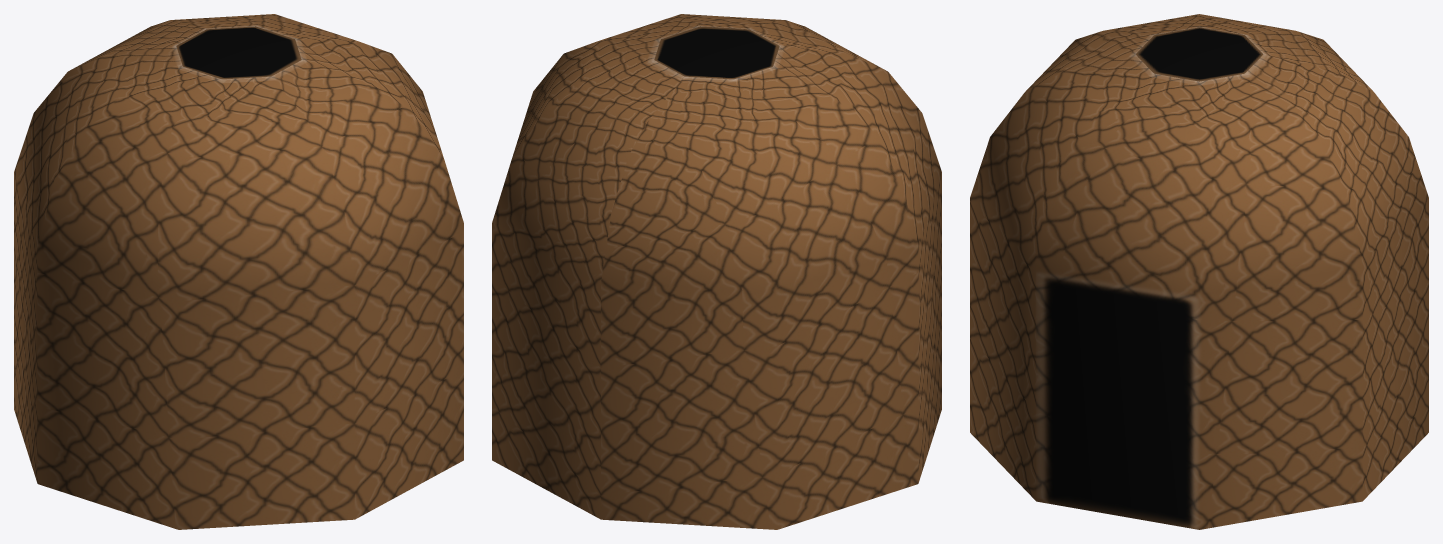
File: mudHut.fbx
3 views of the same model, side by side, from view 1: azimuth 30°, elevation 25°; view 2: azimuth 150°, elevation 25°; view 3: azimuth 270°, elevation 25° (orthographic).
Parts seen in each view (by area): view 1: pCube2; view 2: pCube2; view 3: pCube2.
Boxes of the visible parts, box(x1,y1,x2,y2) form: pCube2: box(14, 14, 463, 529); pCube2: box(492, 14, 941, 529); pCube2: box(970, 14, 1428, 529).
Size of the model in its own units: 4.59 by 4.15 by 4.57.
